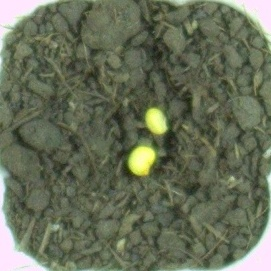pepper seed: (49, 56, 205, 234), (62, 41, 231, 177)
